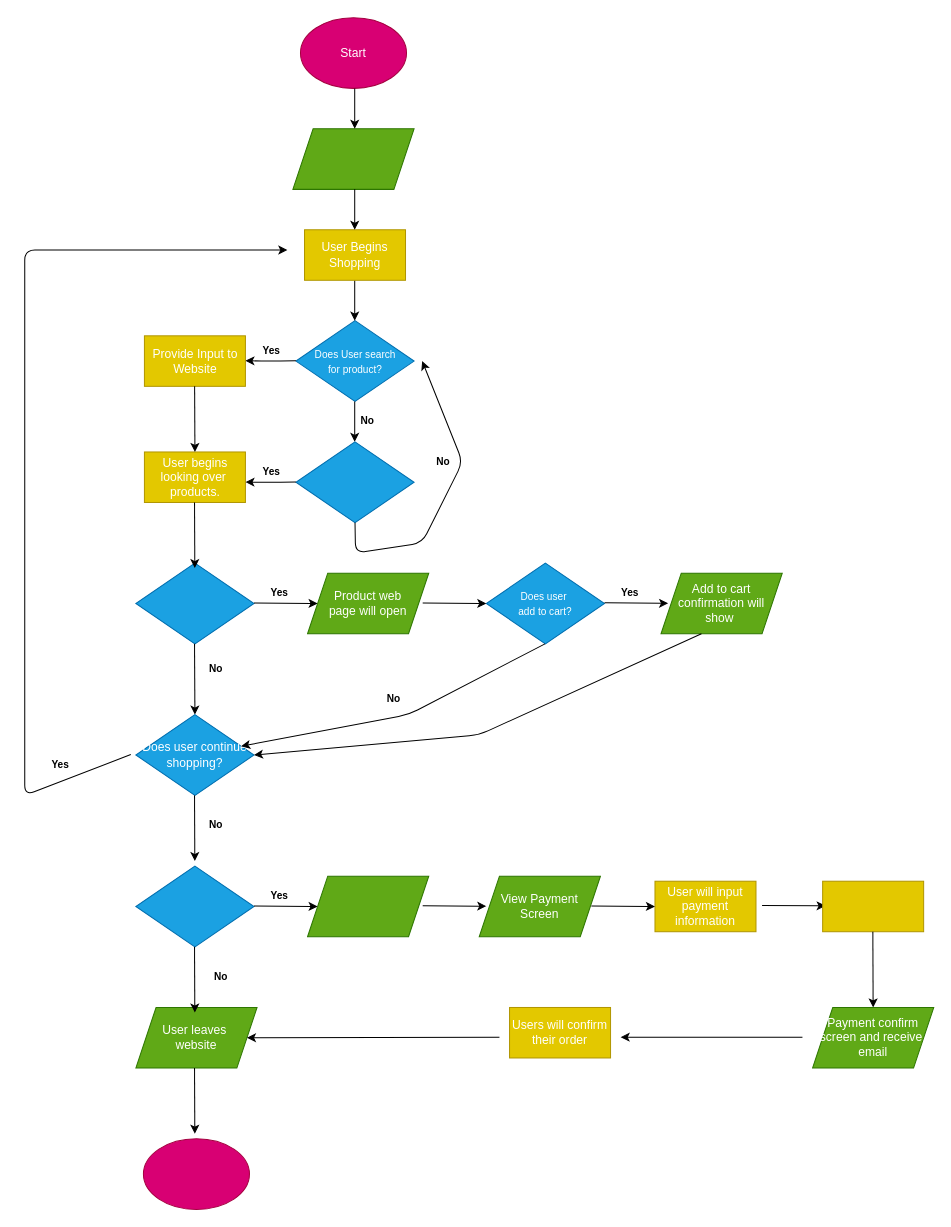
Image size: 951x1227. Some labels were removed from this diagram. The shapes that lost their labels are listed below. From the top down, each one's box as (x1, y1, x2, y2) in pixels, then its label:
(292, 128, 414, 189): User Enters Website
(295, 441, 414, 523): Does User explore products on HP?
(135, 562, 254, 644): Does user view specific object?
(135, 865, 254, 947): Does user checkout?
(307, 875, 429, 937): View Cart Screen
(822, 880, 924, 932): User pays
(142, 1138, 249, 1209): End
